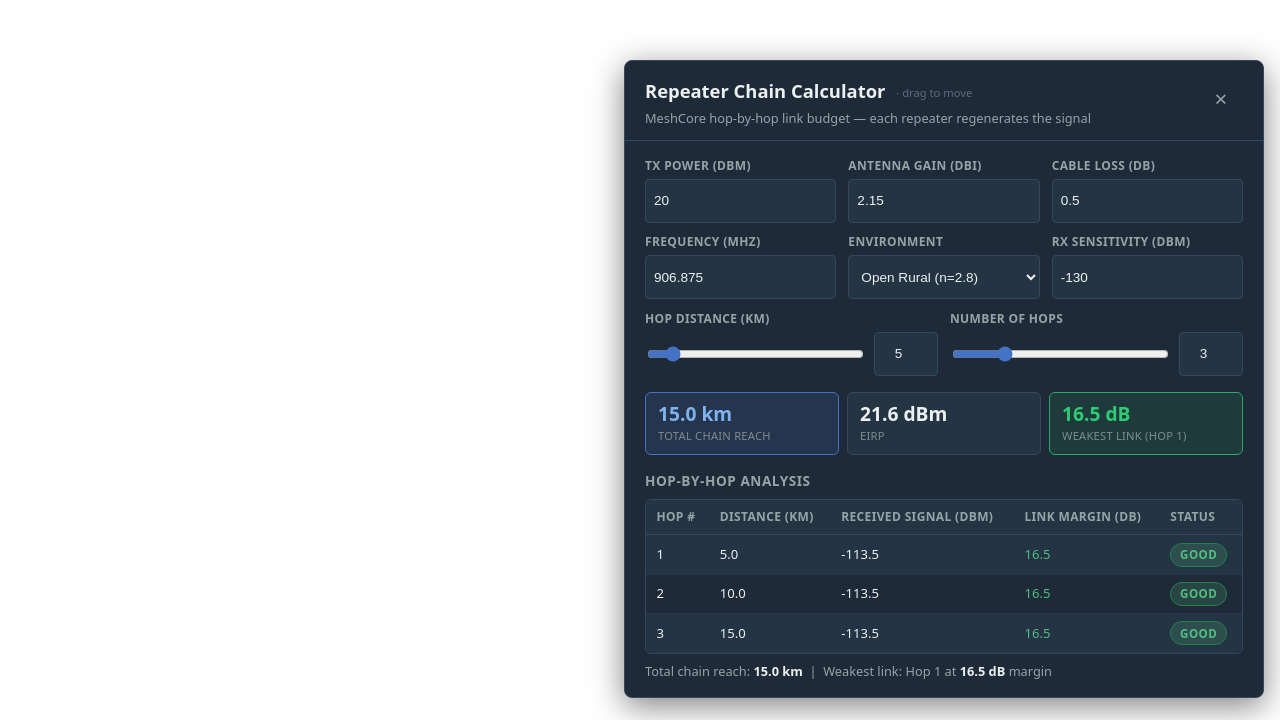
Test: RepeaterChainModal — interaction › changing hop distance number input updates the results table
The image size is (1280, 720).
Expected: the element that starts with "Total chain reach:" shows "15.0 km", [645, 662, 1052, 680]
# Change hop distance to 10km — must blur to commit (NumberInput pattern)
Replace the text in the number field named "Hop distance km" with "10" at (906, 354), box [874, 332, 938, 376]
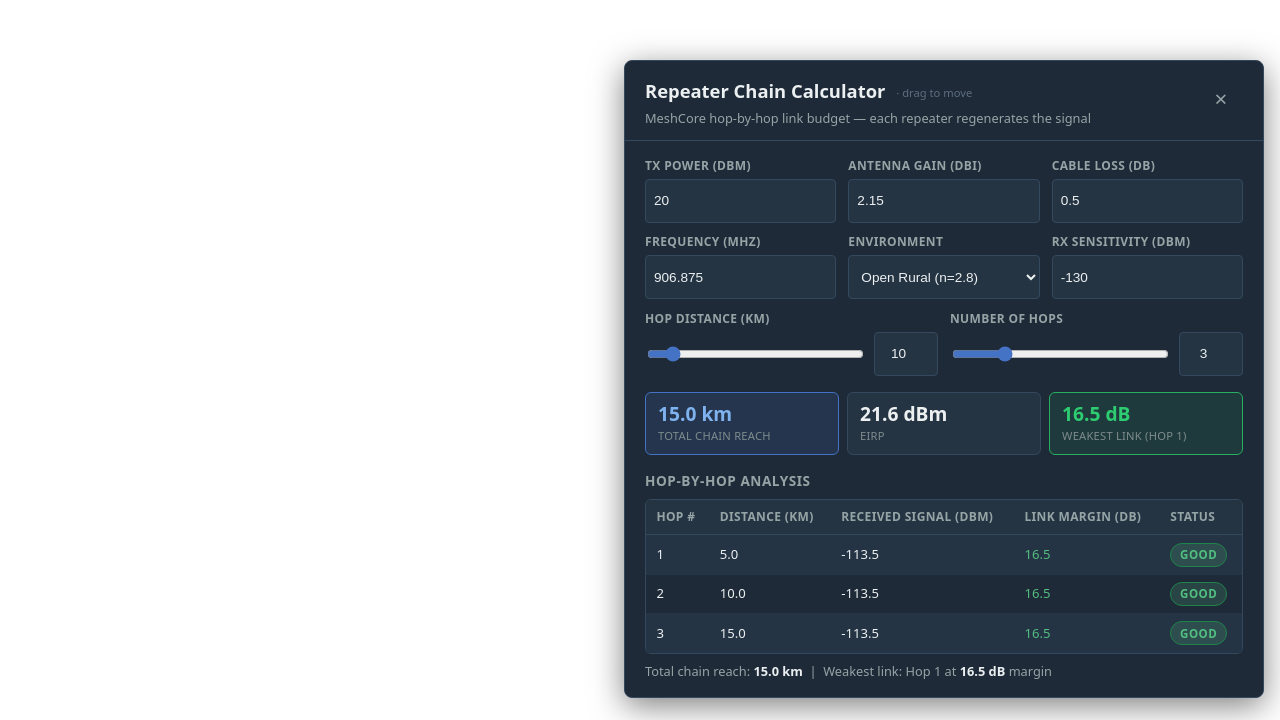
Leave the number field named "Hop distance km", box [874, 332, 938, 376]
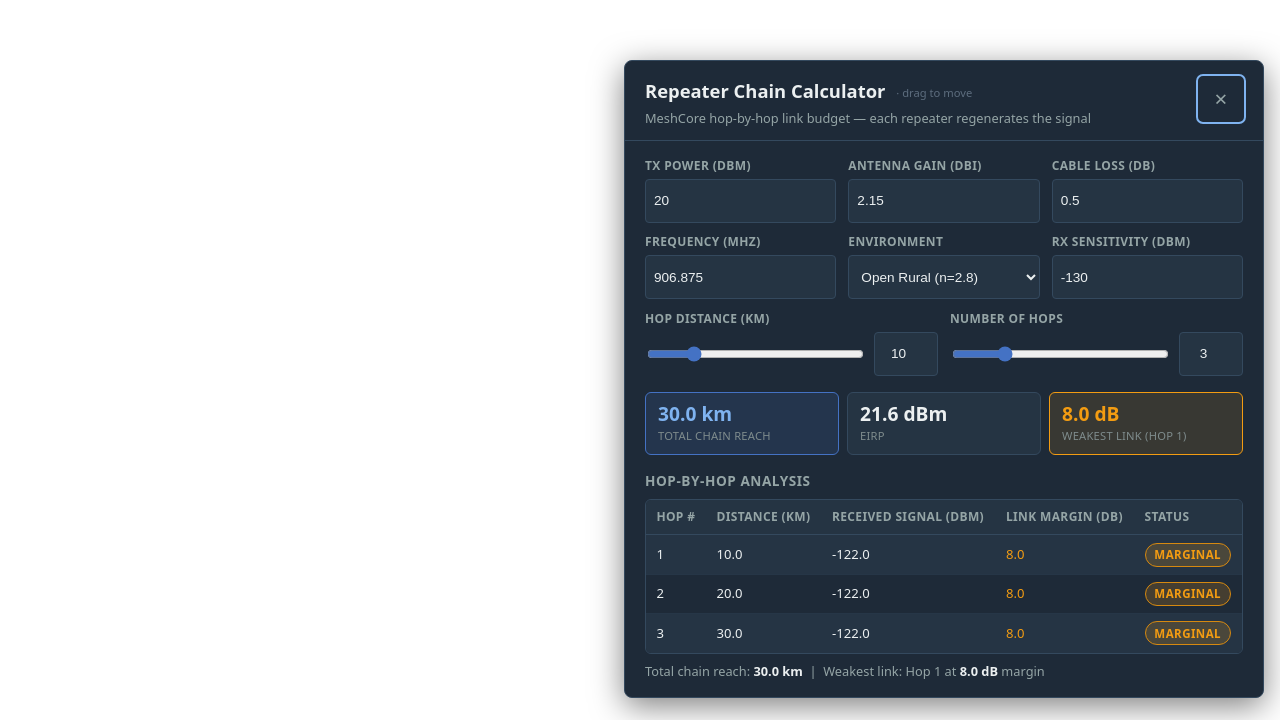
Expected: the element that starts with "Total chain reach:" shows "30.0 km", [645, 662, 1045, 680]
